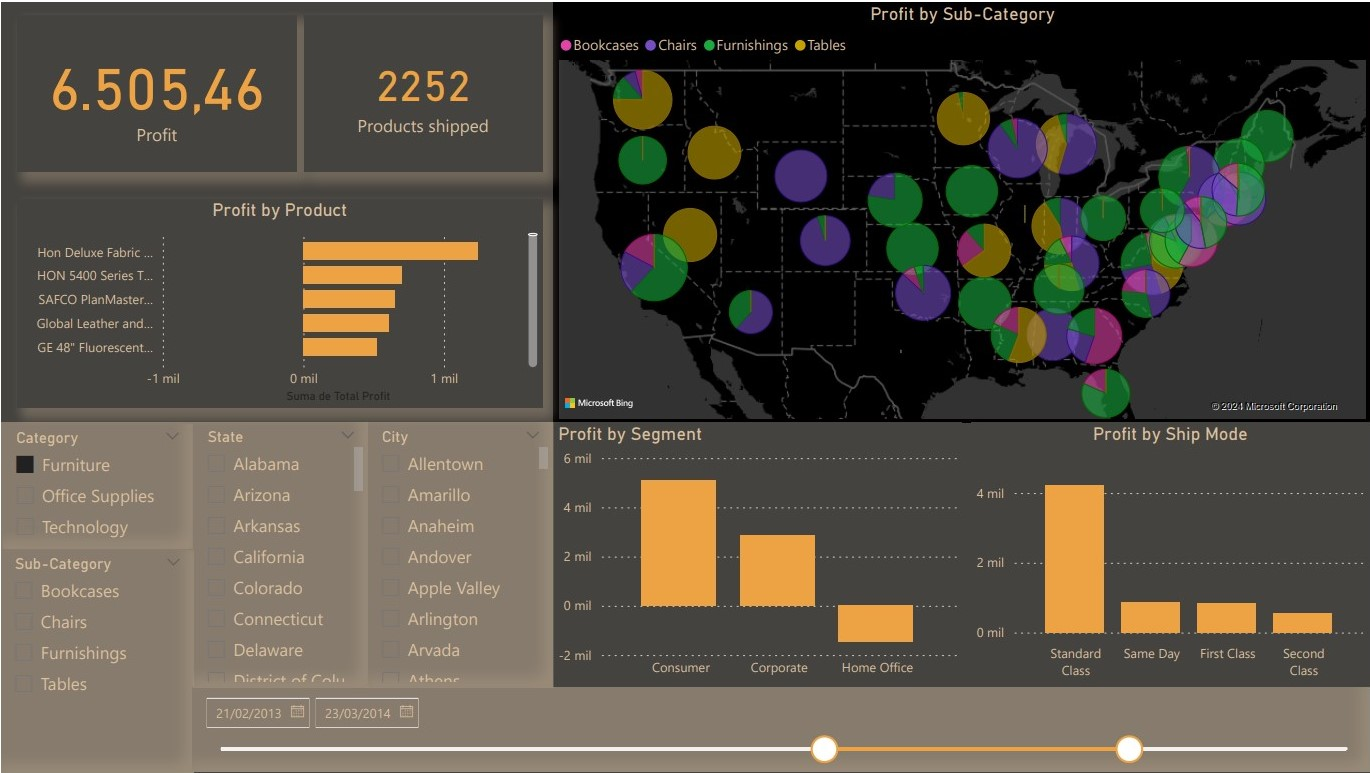

This screenshot's page, from the dashboard's own definition file:
{"tool":"powerbi","page":{"name":"Página 1","canvas":[1280,720],"ordinal":0},"visuals":[{"type":"slicer","fields":{"Values":["Orders.Category"]},"box":[0,392.9,179.9,118.7],"z":1},{"type":"slicer","fields":{"Values":["Orders.Sub-Category"]},"box":[0,511.6,179.9,208.1],"z":2},{"type":"map","title":"Profit by Sub-Category","fields":{"Category":["Orders.State"],"Series":["Orders.Sub-Category"],"Size":["Sum(Orders.Profit)"]},"box":[515.5,0,764.5,392.9],"z":3},{"type":"slicer","fields":{"Values":["Orders.Order Date"]},"box":[178.9,640.5,1101.1,78.9],"z":4},{"type":"columnChart","title":"Profit by Ship Mode","fields":{"Y":["Sum(Orders.Profit)"],"Category":["Orders.Ship Mode"]},"box":[906.5,392.9,373.5,247.1],"z":5},{"type":"slicer","fields":{"Values":["Orders.State"]},"box":[179.9,392.9,163.4,247.1],"z":7},{"type":"clusteredColumnChart","title":"Profit by Segment","fields":{"Y":["Sum(Orders.Profit)"],"Category":["Orders.Segment"]},"box":[515.5,392.9,382.2,247.1],"z":8},{"type":"slicer","fields":{"Values":["Orders.City"]},"box":[343,393,173,247],"z":9},{"type":"card","fields":{"Values":["Sum(Orders.Profit)"]},"box":[14.6,11.7,261.6,145.9],"z":10},{"type":"clusteredBarChart","title":"Profit by Product ","fields":{"Category":["Orders.Product Name"],"Y":["Sum(Orders.Profit)"]},"box":[15,183.9,490.6,194.8],"z":11},{"type":"card","fields":{"Values":["Sum(Orders.Quantity)"]},"box":[282.8,12,222.8,145.9],"z":12}]}

Visuals, with their boxes in screenshot pixels (x1, y1, x2, y2), scaled from the page's 1280x720 canvas onto the 1370x773 screenshot:
slicer - Orders.Category: left=0, top=422, right=193, bottom=549
slicer - Orders.Sub-Category: left=0, top=549, right=193, bottom=772
"Profit by Sub-Category" map: left=552, top=0, right=1369, bottom=422
slicer - Orders.Order Date: left=191, top=688, right=1369, bottom=772
"Profit by Ship Mode" columnChart: left=970, top=422, right=1369, bottom=687
slicer - Orders.State: left=193, top=422, right=367, bottom=687
"Profit by Segment" clusteredColumnChart: left=552, top=422, right=961, bottom=687
slicer - Orders.City: left=367, top=422, right=552, bottom=687
card - Sum(Orders.Profit): left=16, top=13, right=296, bottom=169
"Profit by Product " clusteredBarChart: left=16, top=197, right=541, bottom=407
card - Sum(Orders.Quantity): left=303, top=13, right=541, bottom=170
